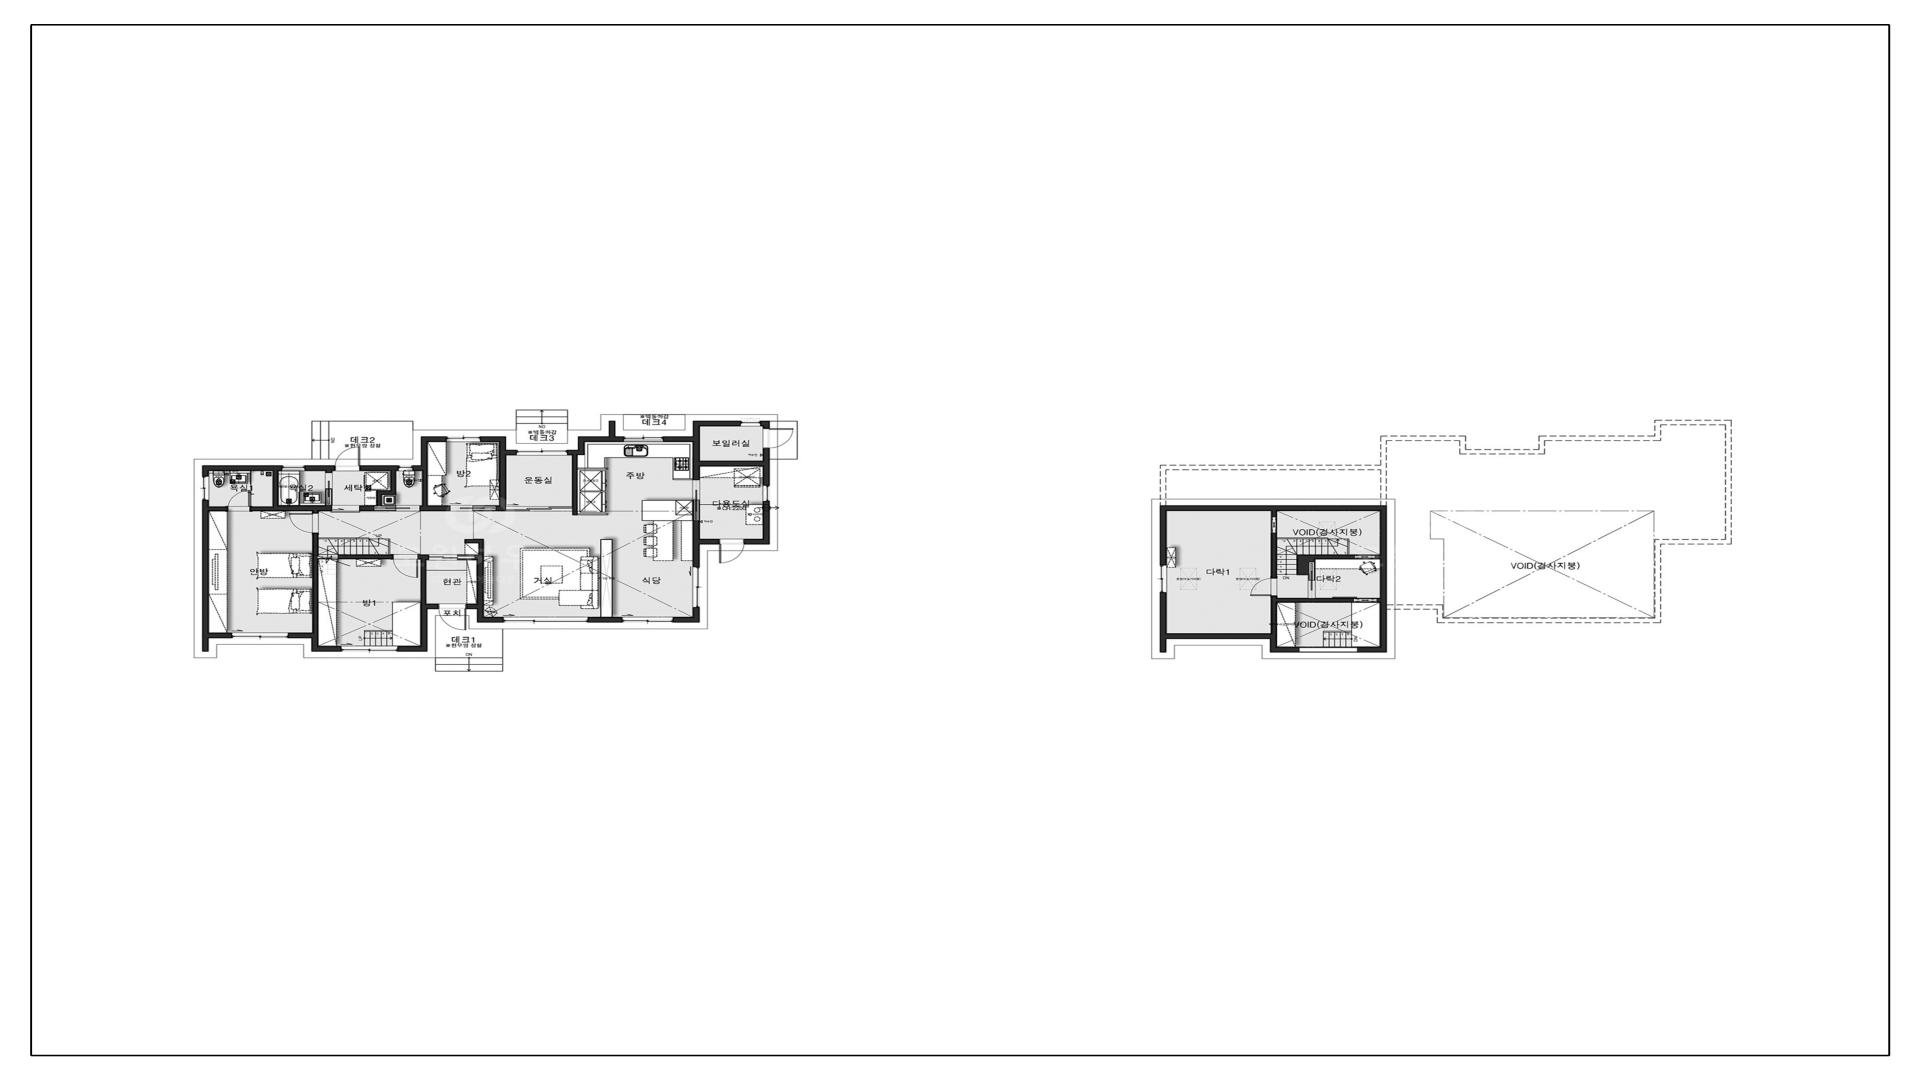door: (438, 603, 467, 630), (719, 539, 745, 563), (762, 429, 794, 448), (289, 513, 319, 533), (335, 447, 360, 471), (393, 554, 418, 578), (1250, 578, 1278, 596), (228, 489, 251, 512), (506, 506, 572, 512), (692, 480, 700, 521), (373, 505, 421, 512), (450, 505, 496, 512), (429, 554, 475, 560), (1308, 562, 1316, 597), (324, 472, 332, 505), (331, 505, 360, 513)
wall: (1159, 505, 1379, 512), (1379, 505, 1387, 646), (202, 500, 210, 633), (1167, 633, 1278, 640), (313, 533, 319, 633), (1278, 597, 1379, 603), (1270, 512, 1278, 578), (1159, 592, 1167, 653), (498, 455, 506, 512), (1296, 554, 1379, 559), (1159, 512, 1167, 566), (700, 460, 762, 467), (319, 554, 393, 559), (273, 505, 331, 512), (210, 465, 282, 471), (762, 501, 770, 545), (419, 609, 427, 651), (572, 455, 578, 516), (477, 555, 484, 603), (692, 442, 700, 480), (1270, 596, 1278, 633), (762, 448, 770, 485), (421, 559, 426, 604), (421, 436, 429, 465), (422, 471, 429, 505), (700, 421, 741, 426), (360, 465, 398, 471), (585, 436, 624, 442), (1357, 646, 1387, 653), (663, 436, 700, 442), (421, 505, 450, 512), (273, 471, 278, 505), (588, 617, 622, 622), (692, 545, 700, 567), (311, 646, 342, 651), (202, 633, 232, 638), (1296, 562, 1308, 575), (306, 465, 335, 471), (289, 632, 311, 638), (692, 521, 700, 539), (476, 617, 504, 622), (1278, 646, 1299, 653), (692, 539, 719, 545), (1278, 537, 1328, 539), (481, 436, 506, 442), (390, 471, 397, 491), (692, 421, 700, 436), (692, 607, 700, 622), (251, 506, 273, 512), (1270, 638, 1278, 653), (311, 632, 319, 646), (398, 646, 419, 651), (498, 442, 506, 455), (578, 436, 585, 450), (609, 421, 616, 436), (210, 506, 228, 512), (567, 450, 585, 455), (674, 617, 692, 622), (419, 604, 438, 609), (376, 491, 382, 505), (477, 603, 484, 617), (429, 436, 446, 442), (745, 539, 762, 545), (360, 505, 373, 512), (202, 638, 208, 651), (202, 465, 210, 476), (413, 465, 429, 471), (479, 539, 484, 555), (578, 513, 608, 516), (578, 467, 608, 469), (1323, 630, 1352, 633), (382, 491, 397, 495), (464, 539, 479, 543), (467, 604, 477, 609), (418, 554, 429, 559), (1296, 559, 1316, 562), (506, 450, 516, 455), (762, 421, 770, 426), (496, 505, 498, 512), (764, 426, 770, 429), (475, 555, 477, 560), (313, 512, 319, 513), (326, 471, 332, 472)
window: (504, 617, 588, 622), (1299, 646, 1357, 653), (692, 567, 700, 607), (342, 646, 398, 651), (232, 633, 289, 638), (622, 617, 674, 622), (516, 450, 567, 455), (624, 436, 665, 442), (1159, 566, 1167, 592), (446, 436, 481, 442), (202, 476, 210, 500), (762, 485, 770, 501), (282, 465, 306, 471), (741, 421, 762, 426), (398, 465, 413, 471)
